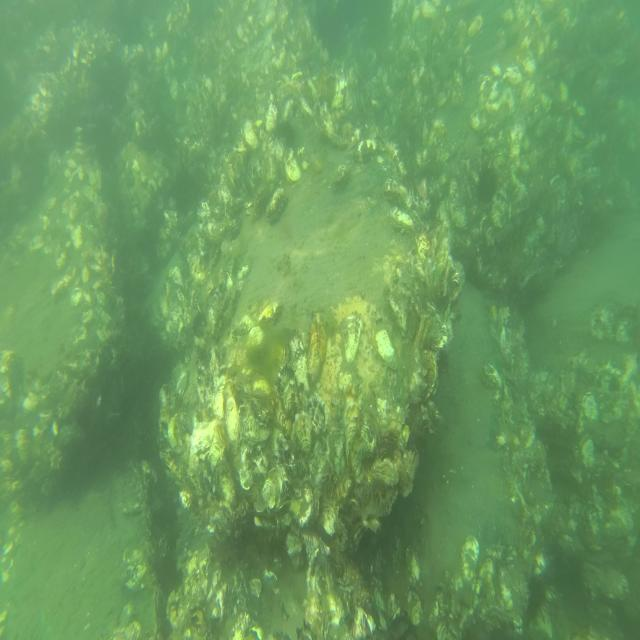echinus: (525, 575, 545, 619), (477, 166, 497, 200), (278, 117, 295, 143)
